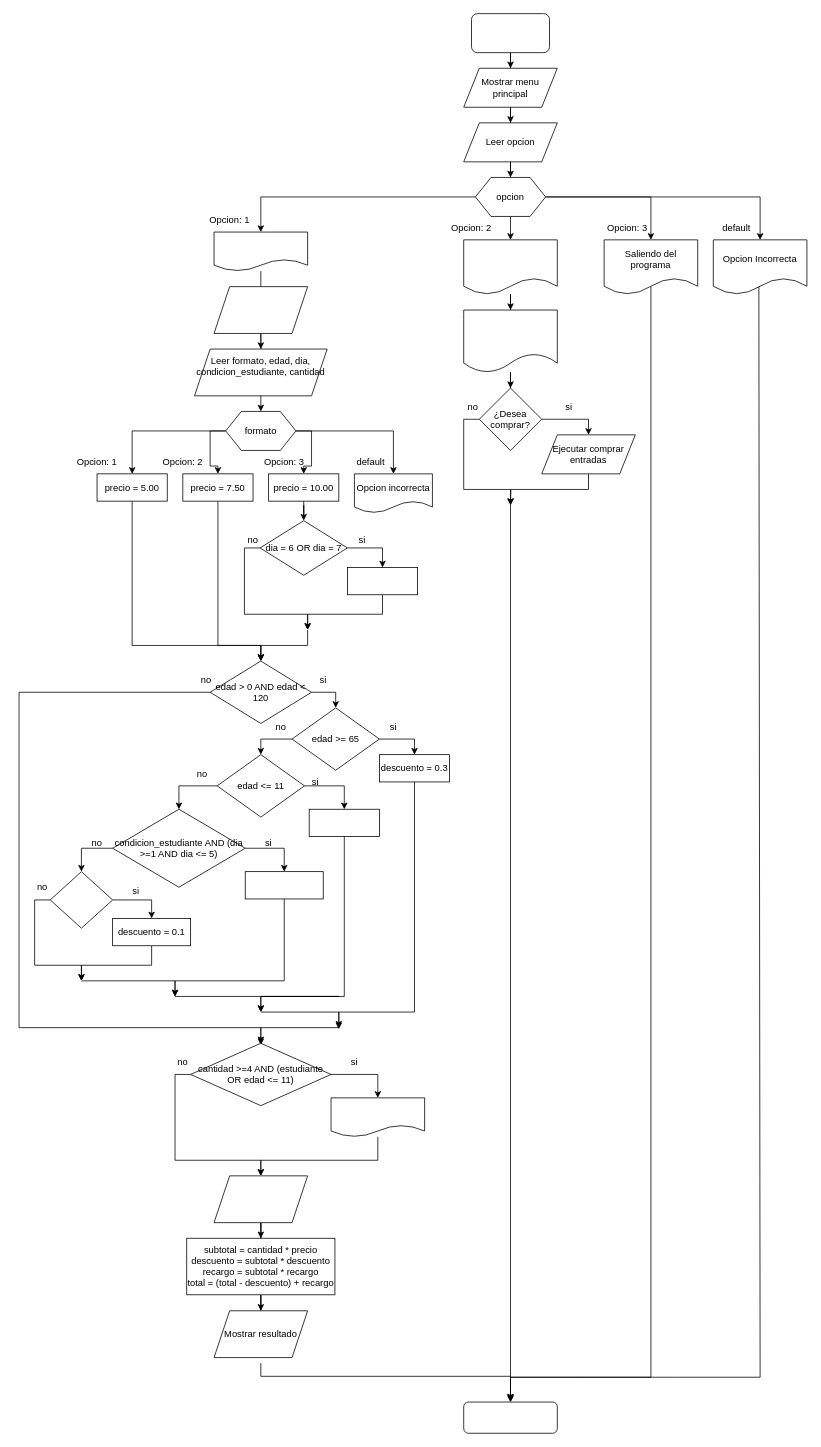
Some shapes in this 821 by 1447 pixel diagram are drawn without their labels. The centre of each missing label's shape, as x and y in pixels:
"Aplicar promociones" belongs at pixel 260 1199.
"Combo pequeño de cortesía" belongs at pixel 377 1117.
"Comprar entradas" belongs at pixel 260 251.
"Consulta de precios" belongs at pixel 510 266.
"descuento = 0.15" belongs at pixel 283 885.
"descuento = 0.2" belongs at pixel 343 822.
"dia = 3" belongs at pixel 81 899.
"FIN" belongs at pixel 510 1417.
"INICIO" belongs at pixel 510 33.
"Mostrar formatos disponibles" belongs at pixel 260 309.
"Precios: 2D: $5.00 3D: $7.50 IMAX: $10.00" belongs at pixel 510 340.
"recargo = 0.10" belongs at pixel 382 581.
